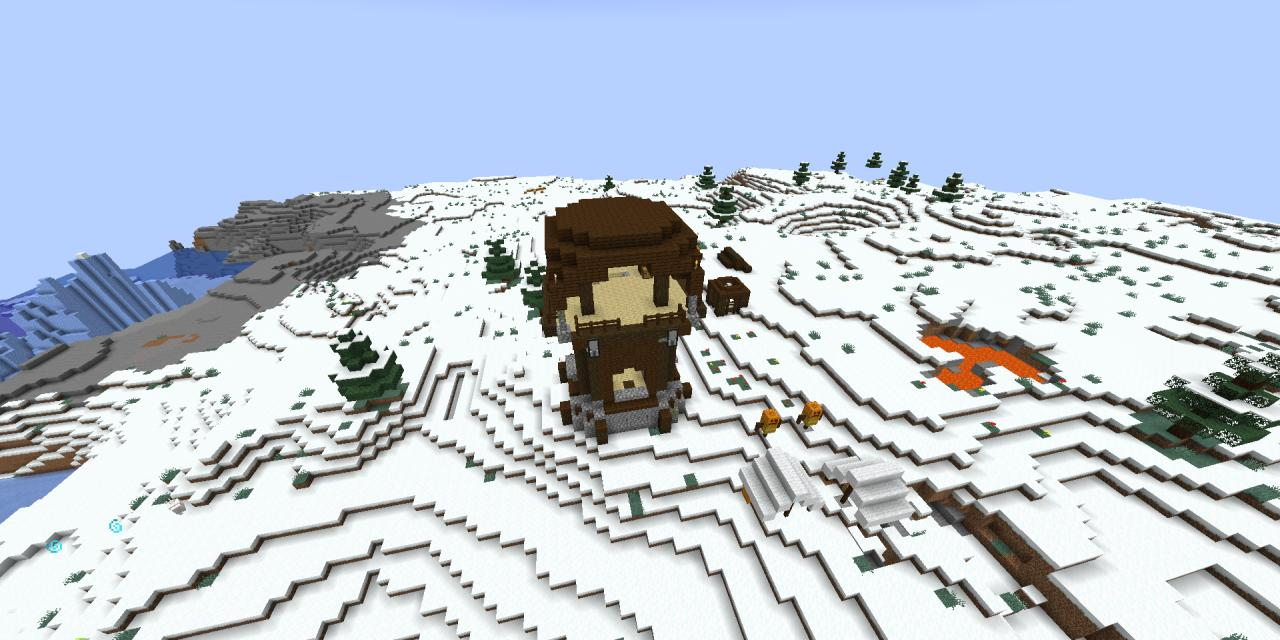pillager outpost: (529, 182, 715, 454)
